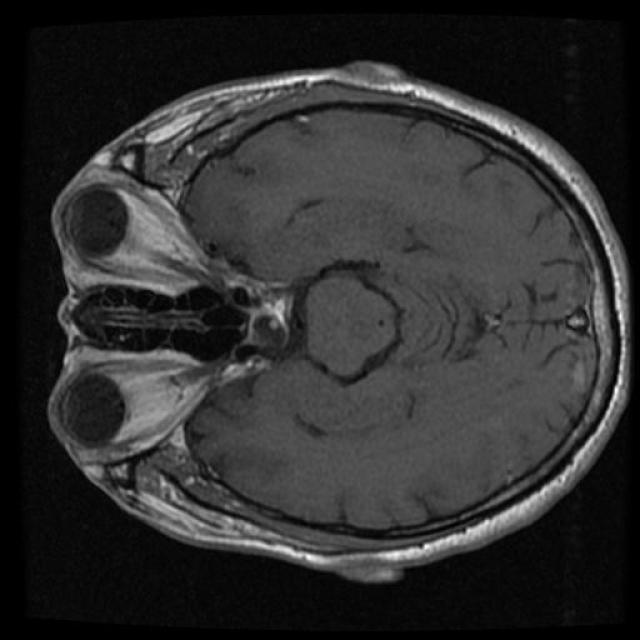Pituitary: (225, 273, 295, 366)
